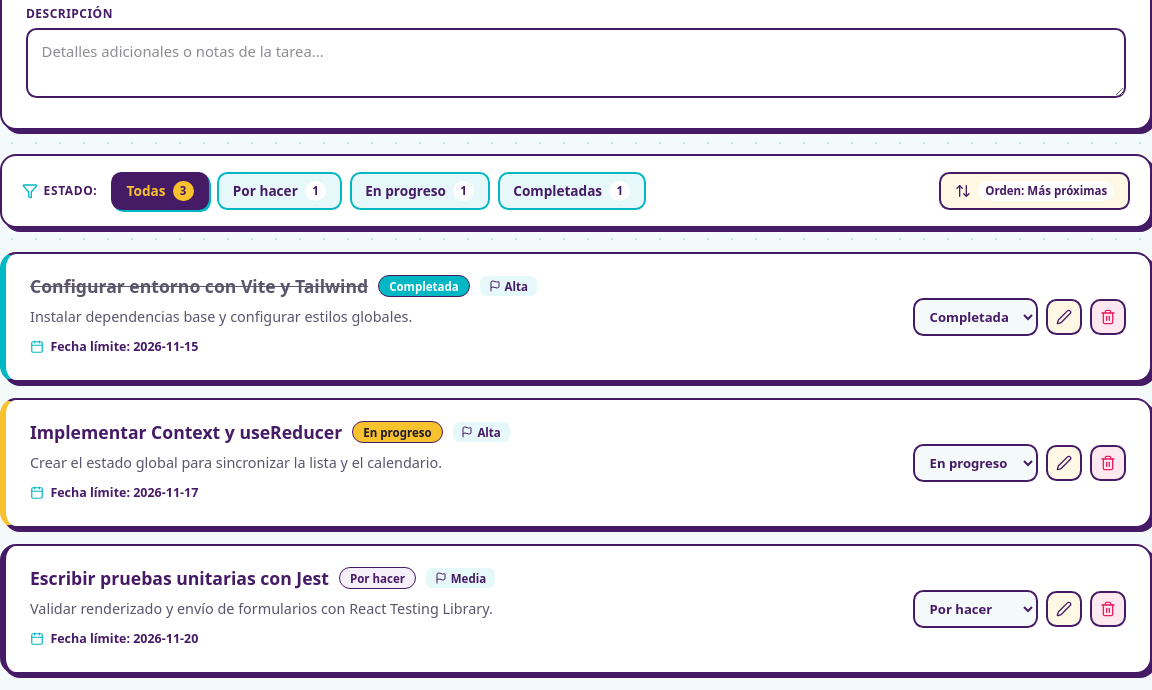
Scenario: TaskListView Integration › elimina una tarea al hacer clic en el botón eliminar
(page scrolled)
Expected: the heading "Escribir pruebas unitarias con Jest" is shown, x1=30 y1=566 x2=329 y2=590
Step 1. Click the button named "Eliminar Escribir pruebas unitarias con Jest" → (1108, 609), box x1=1090 y1=591 x2=1126 y2=627
(page scrolled)
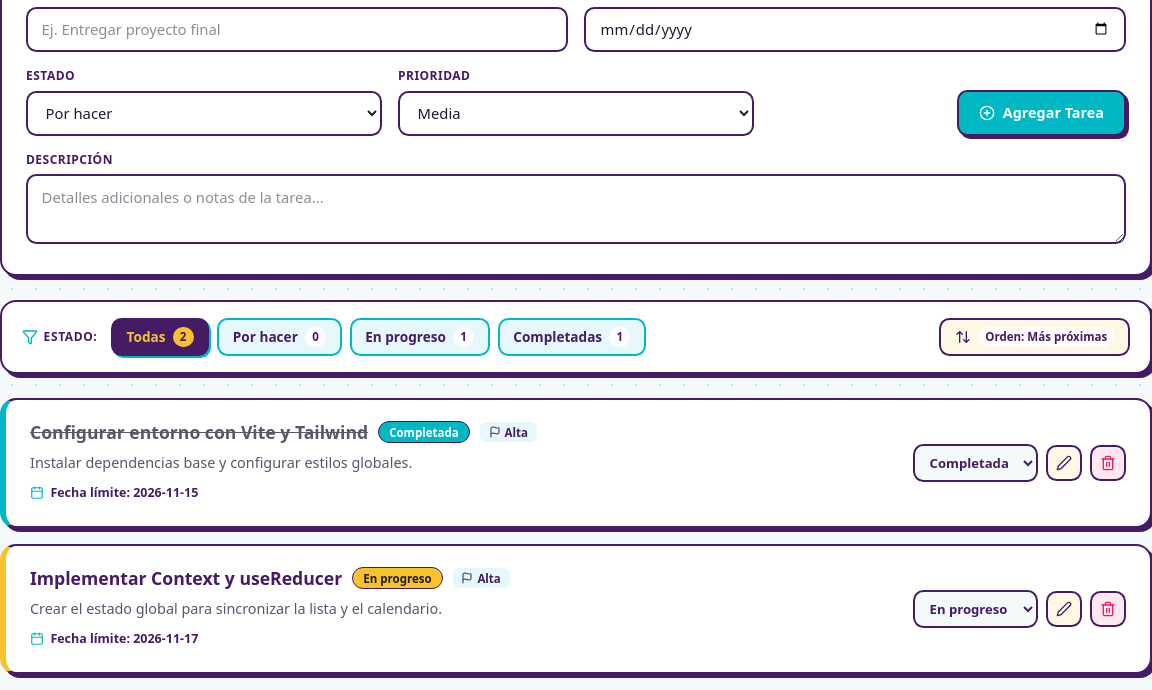
Now the heading "Escribir pruebas unitarias con Jest" is gone
